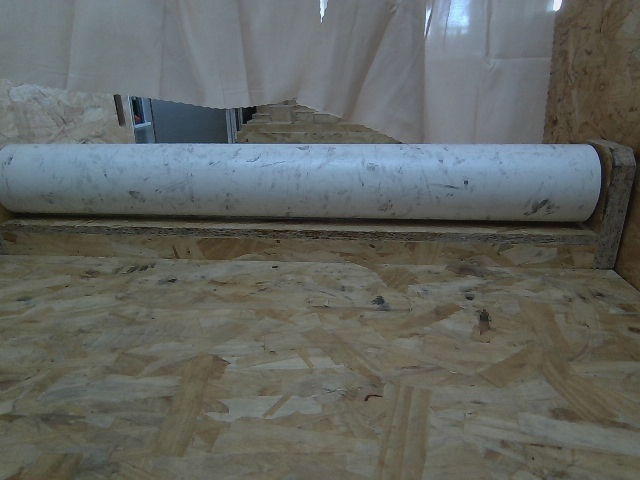curtain: (32, 0, 576, 134)
